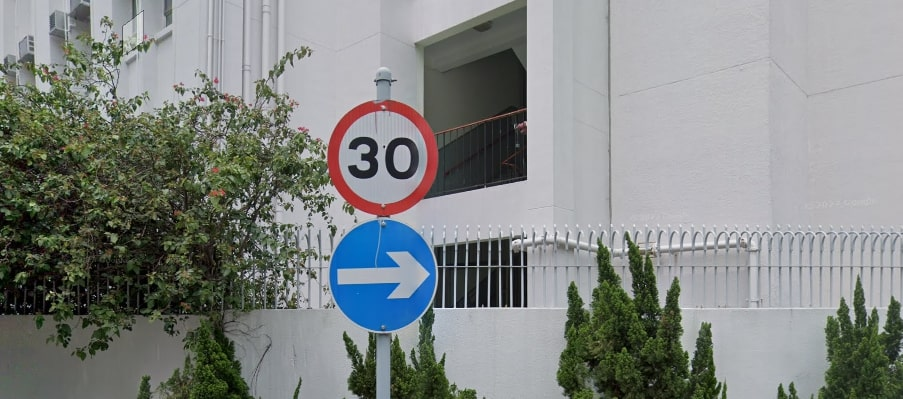Speed Limit: (325, 100, 449, 214)
Turn Right: (330, 219, 442, 330)
